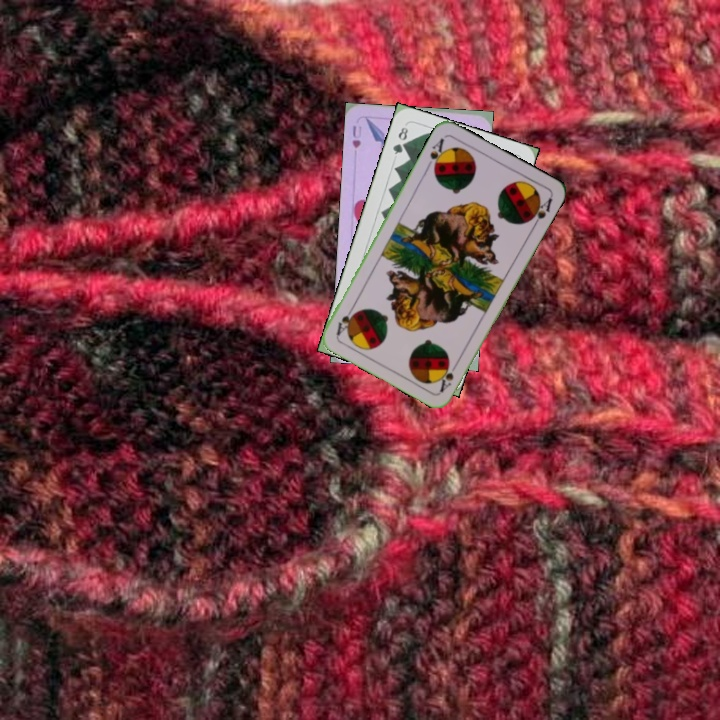G8: (389, 123, 411, 157)
HU: (348, 122, 364, 151)
SA: (422, 134, 448, 174), (435, 357, 461, 395)
